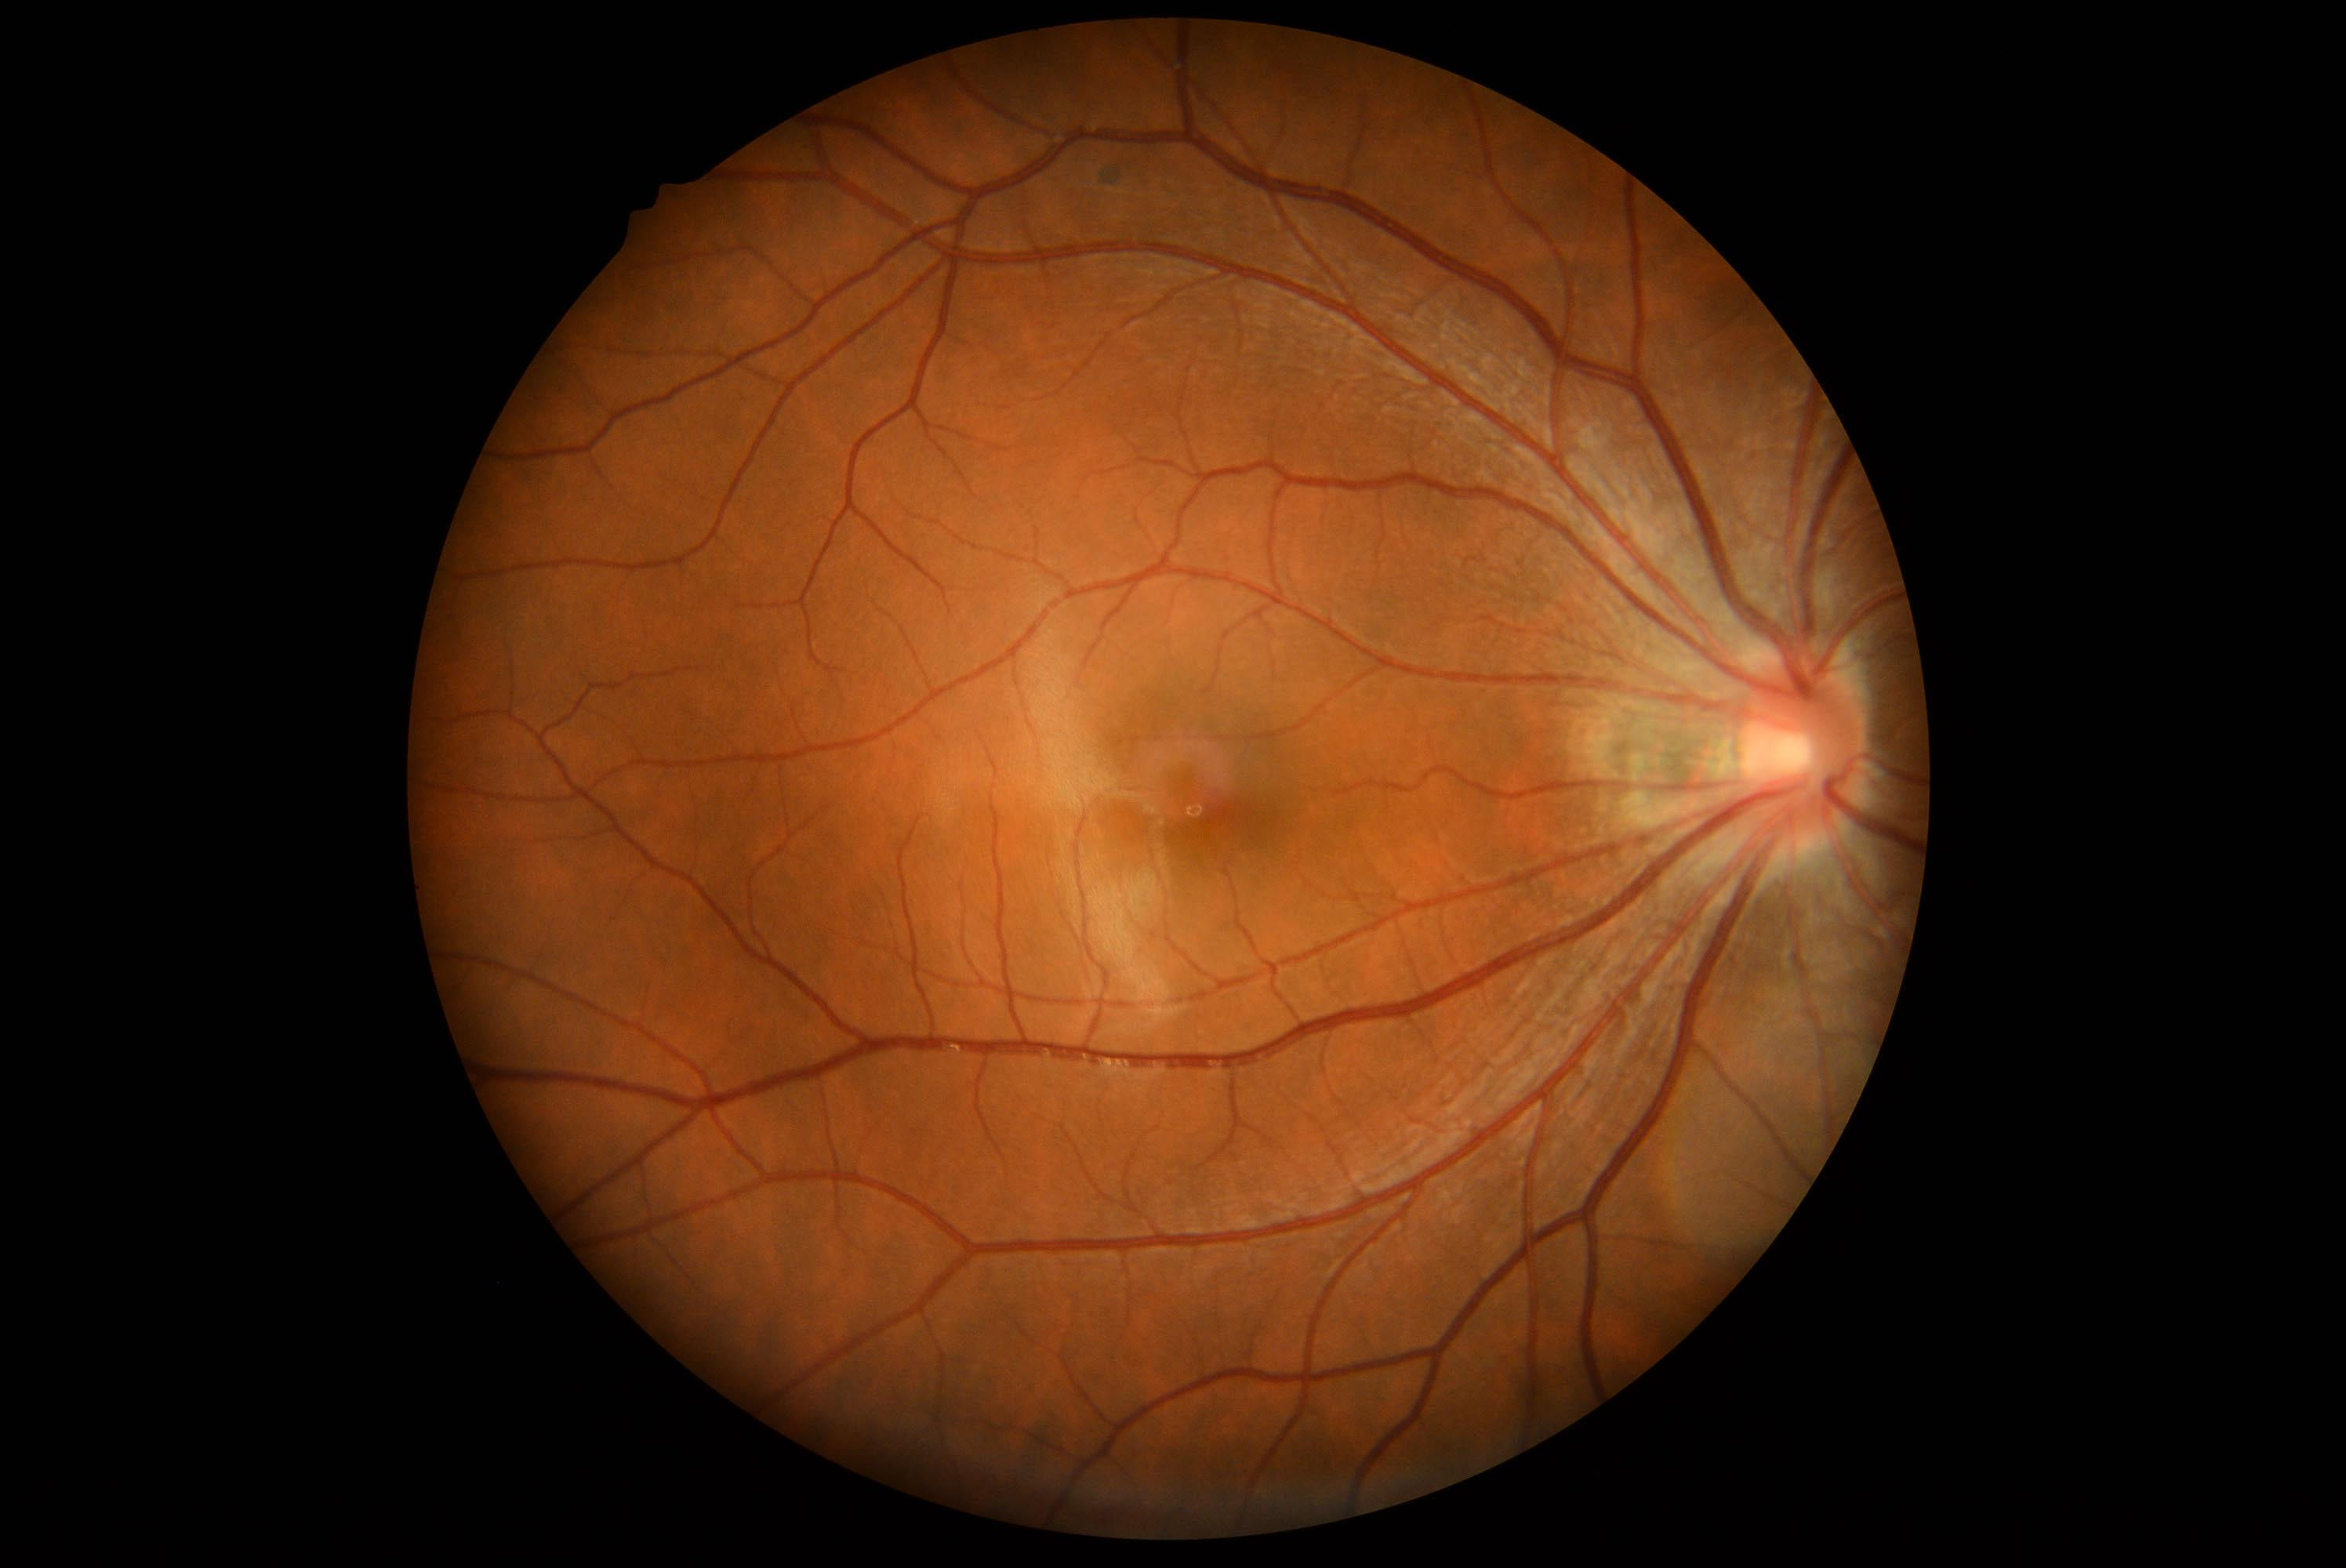Fovea: (1121, 732, 1267, 882)
